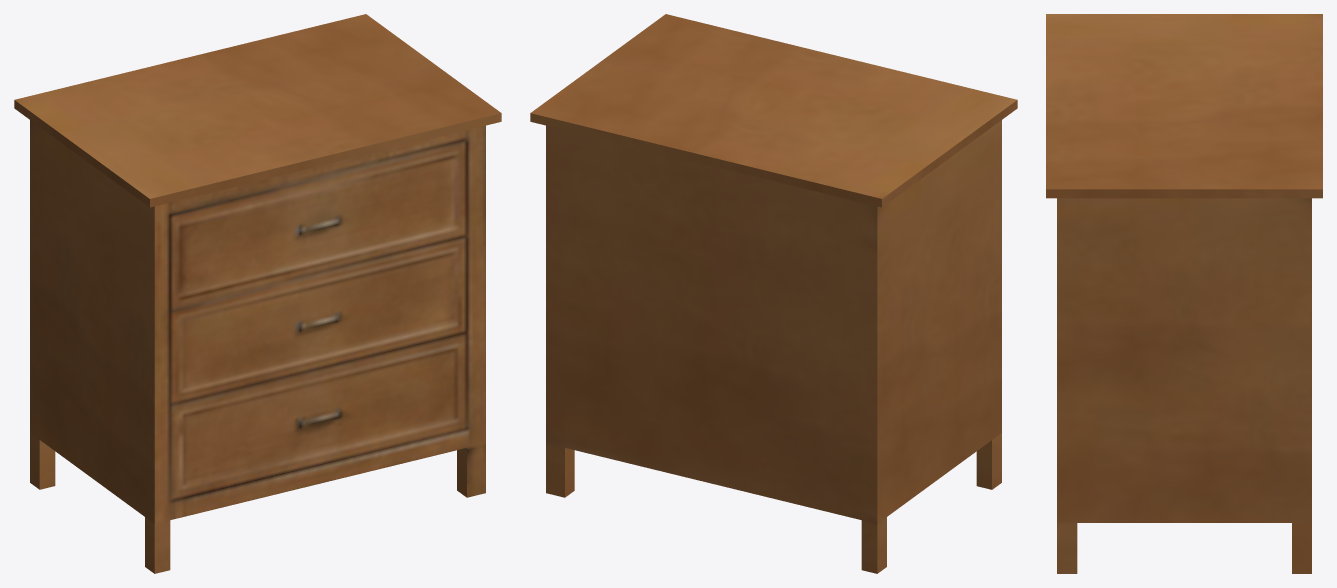
The model's file is Chest_drawers_01-col.glb.
The picture shows the model from 3 angles, left to right: view 1: azimuth 30°, elevation 25°; view 2: azimuth 150°, elevation 25°; view 3: azimuth 270°, elevation 25°; orthographic projection. The views are drawn at different scales.
Visible parts, largest first — view 1: Chest_drawers_01-col; view 2: Chest_drawers_01-col; view 3: Chest_drawers_01-col.
Part boxes in pixels (left/top/right/bottom): Chest_drawers_01-col: left=14, top=14, right=501, bottom=573; Chest_drawers_01-col: left=530, top=14, right=1017, bottom=573; Chest_drawers_01-col: left=1046, top=14, right=1322, bottom=573.
Bounding box in the file's own units: 2.25 × 2.33 × 1.5.
1 material, 1 textured.
